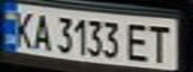1: (69, 16, 87, 56)
3: (100, 18, 124, 60), (51, 14, 75, 54), (84, 17, 106, 59)
A: (27, 10, 54, 52)
E: (124, 20, 154, 64)
K: (6, 7, 39, 50)
T: (142, 21, 178, 63)
